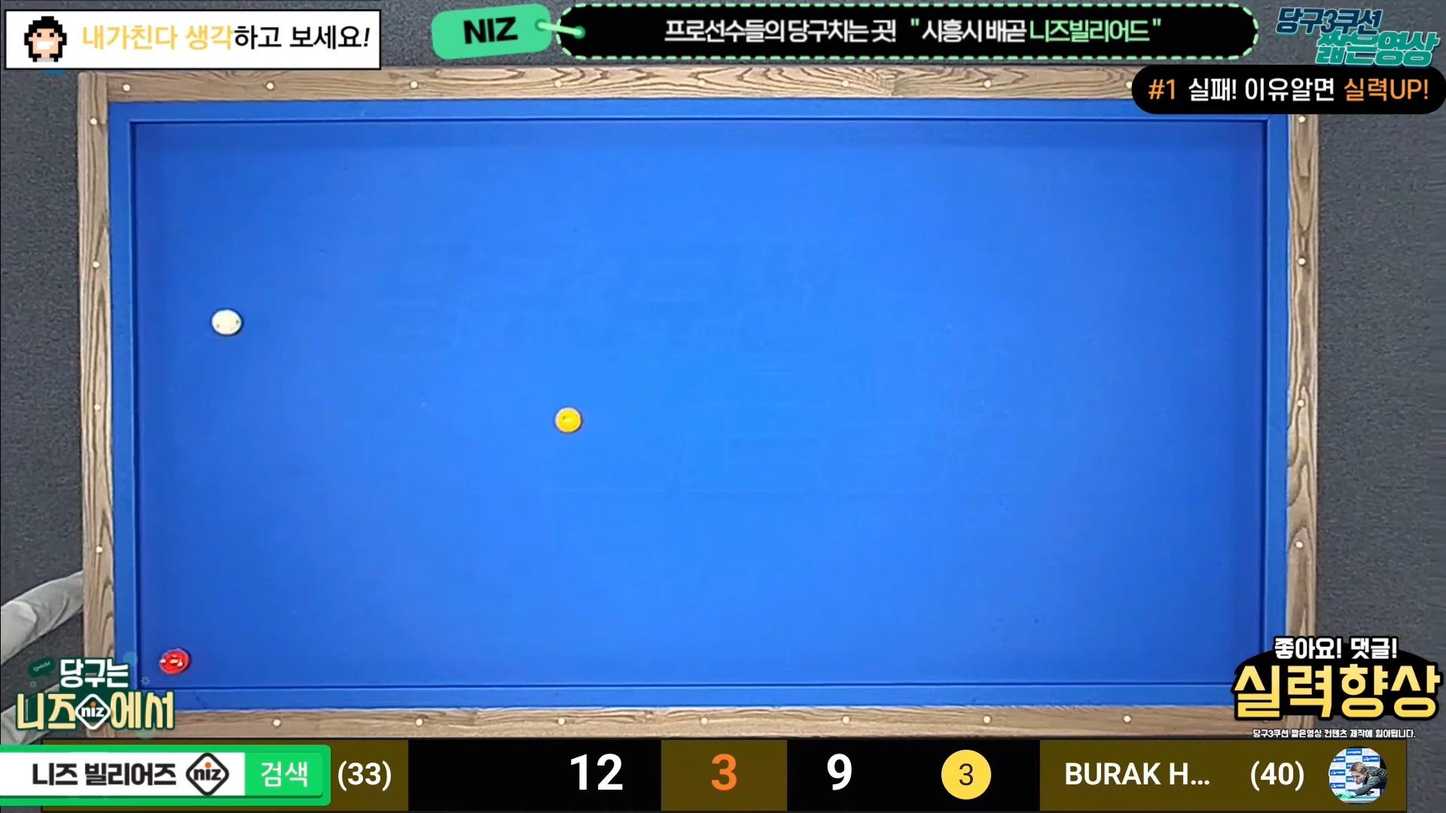-billiard-ball: (210, 308, 243, 336), (554, 406, 582, 434)
Red: (158, 651, 193, 677)
White: (208, 309, 247, 337)
Yellow: (551, 405, 586, 434)
